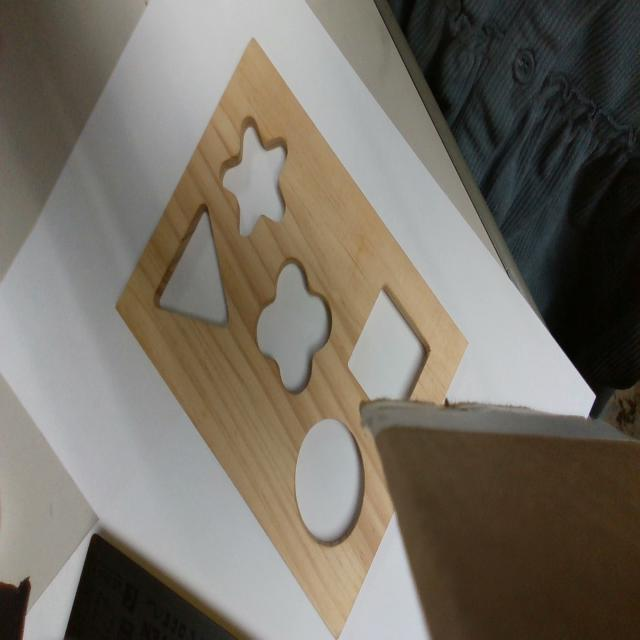circle: (293, 420, 364, 545)
flower: (256, 256, 332, 392)
square: (346, 283, 432, 401)
star: (219, 118, 287, 233)
triangle: (154, 202, 231, 331)
